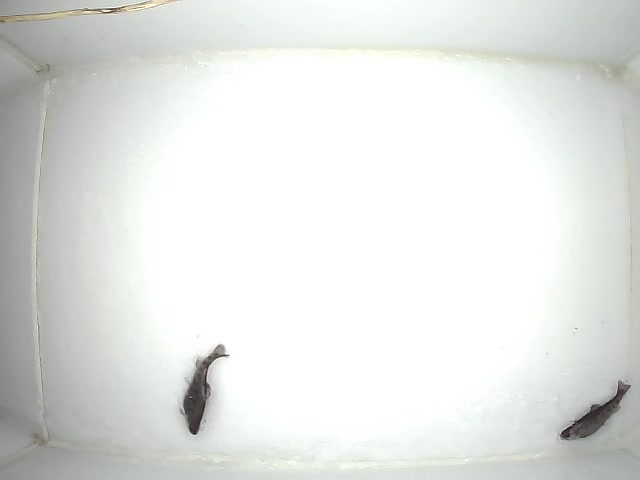fish: (556, 378, 634, 441), (180, 341, 231, 436)
